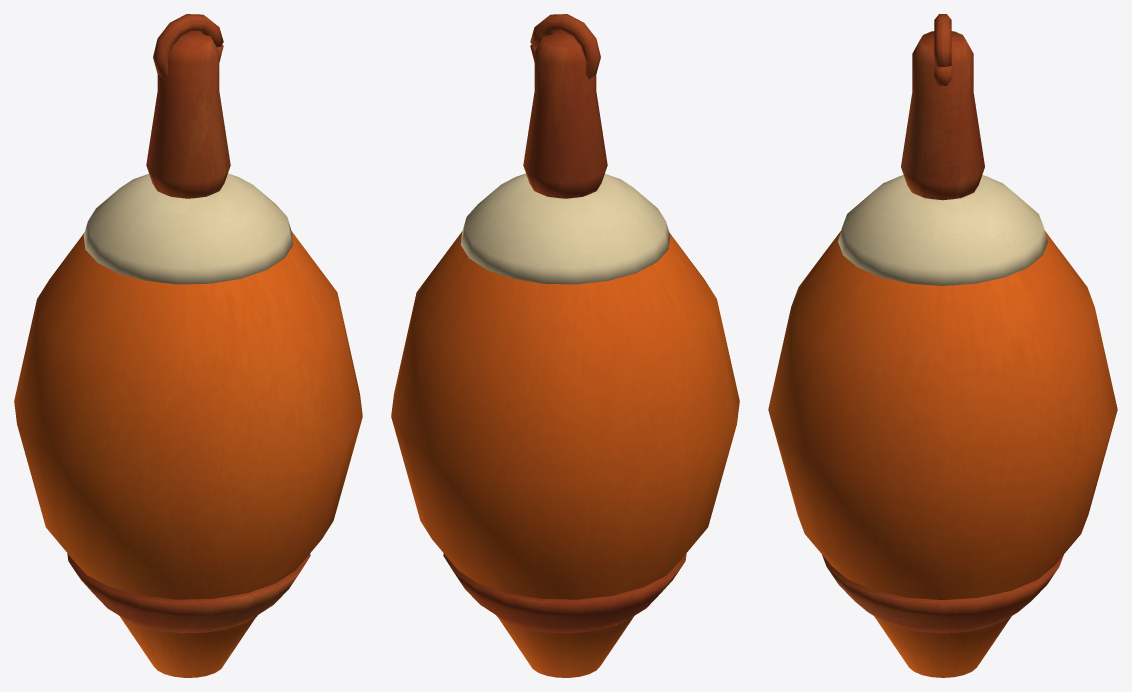
File: bobber.glb
3 views of the same model, side by side, from view 1: azimuth 30°, elevation 25°; view 2: azimuth 150°, elevation 25°; view 3: azimuth 270°, elevation 25° (orthographic).
Visible parts, largest first — view 1: Fishing float mesh; view 2: Fishing float mesh; view 3: Fishing float mesh.
Boxes of the visible parts, <box> form: Fishing float mesh: <box>14,14,362,677</box>; Fishing float mesh: <box>391,14,739,677</box>; Fishing float mesh: <box>768,14,1117,677</box>.
Size of the model in its own units: 0.274 by 0.5583 by 0.274.
Materials: 1 (1 with a texture image).
